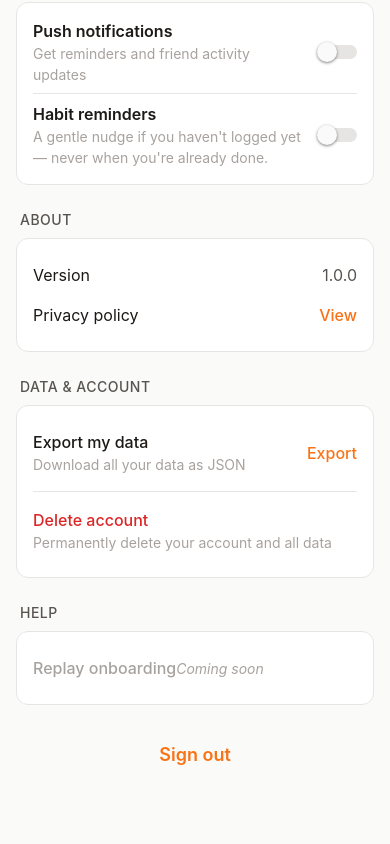
Test: SettingsScreen — Account Deletion › shows error in modal when deletion fails
(page scrolled)
What coordinates should you click on to do the following:
click the button with test id "settings-delete-account"
I would click on:
 (91, 520)
Its box is [33,500,357,561].
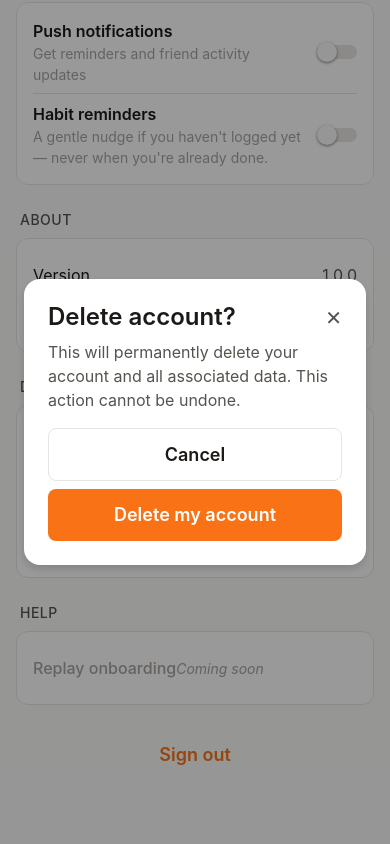
Expected: the button with aria-label "Permanently delete your account" is shown
What coordinates should you click on to do the following:
click the button with aria-label "Permanently delete your account"
I would click on:
 (195, 515)
Its box is [48,489,342,541].
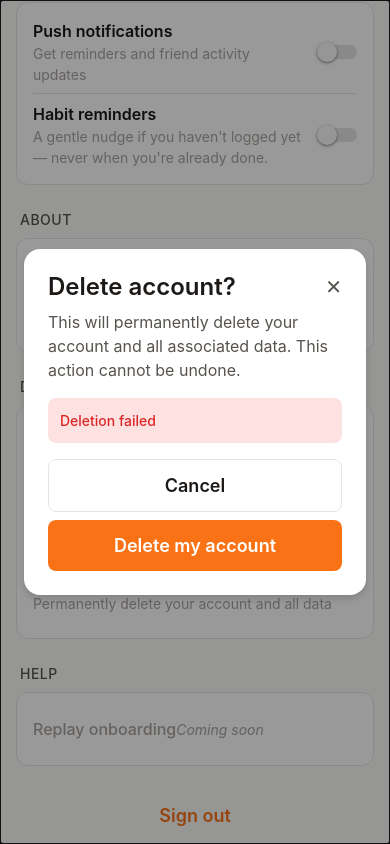
Expected: the message "Deletion failed" is shown, [48,398,342,443]
